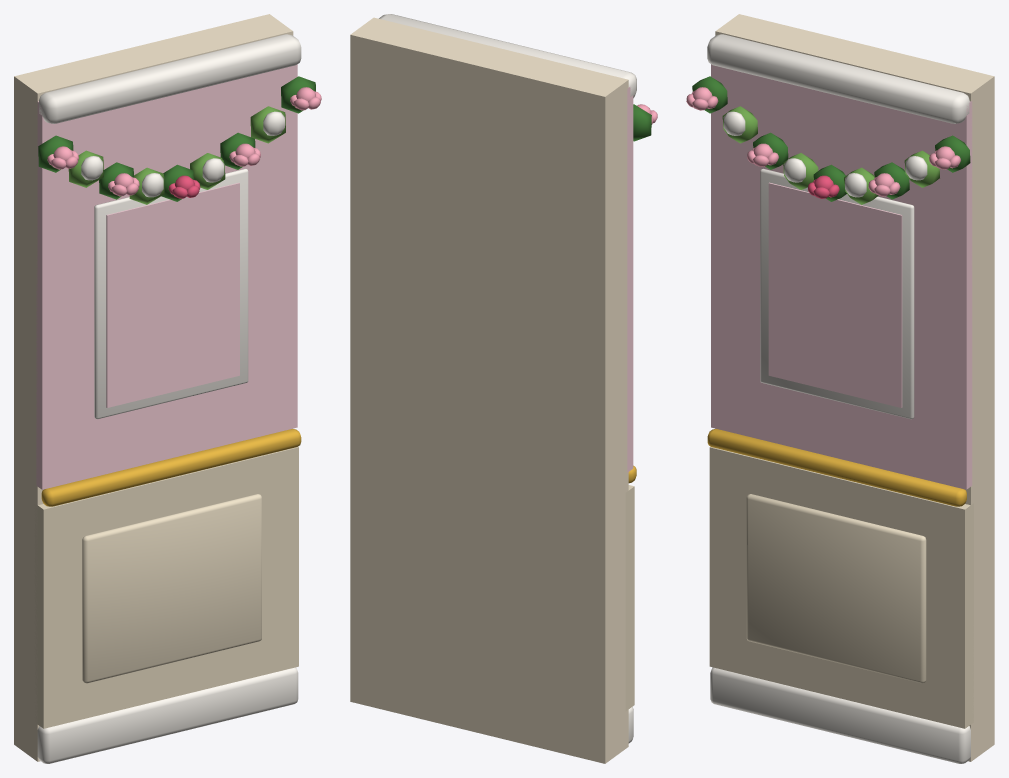
File: parede.glb
3 renders of one model, left to right at view 1: azimuth 30°, elevation 25°; view 2: azimuth 150°, elevation 25°; view 3: azimuth 330°, elevation 25°, orthographic.
Visible parts, largest first — view 1: Parede; view 2: Parede; view 3: Parede.
Part boxes in pixels (box(x1,y1,x2,y2)): Parede: box(14, 14, 321, 763); Parede: box(350, 14, 657, 763); Parede: box(686, 14, 994, 763).
Bounding box in the file's own units: 1.08 × 2.5 × 0.3442.
